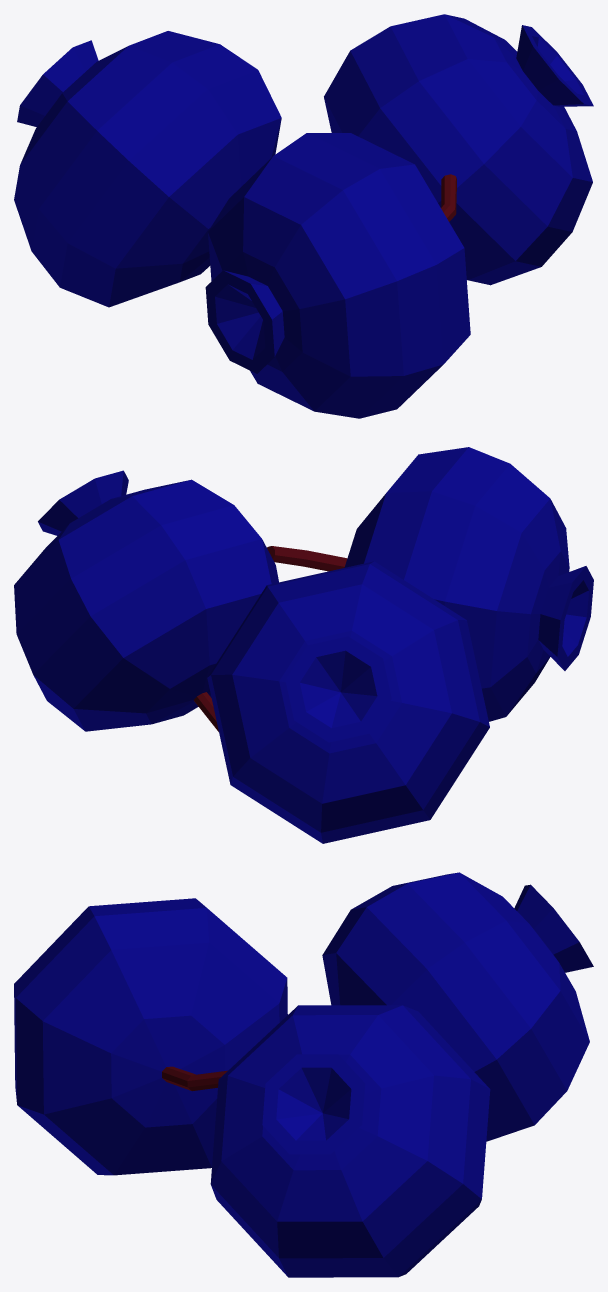
Rendered from Blueberry_01.fbx.
The picture shows the model from 3 angles, top to bottom: view 1: azimuth 30°, elevation 25°; view 2: azimuth 150°, elevation 25°; view 3: azimuth 270°, elevation 25°; orthographic projection. The views are drawn at different scales.
Parts seen in each view (by area): view 1: Blueberry_01; view 2: Blueberry_01; view 3: Blueberry_01.
Boxes of the visible parts, x1,y1,x2,y2 form: Blueberry_01: [14, 14, 593, 418]; Blueberry_01: [14, 447, 593, 843]; Blueberry_01: [14, 872, 593, 1277].
Size of the model in its own units: 5.09 by 2.55 by 5.07.
